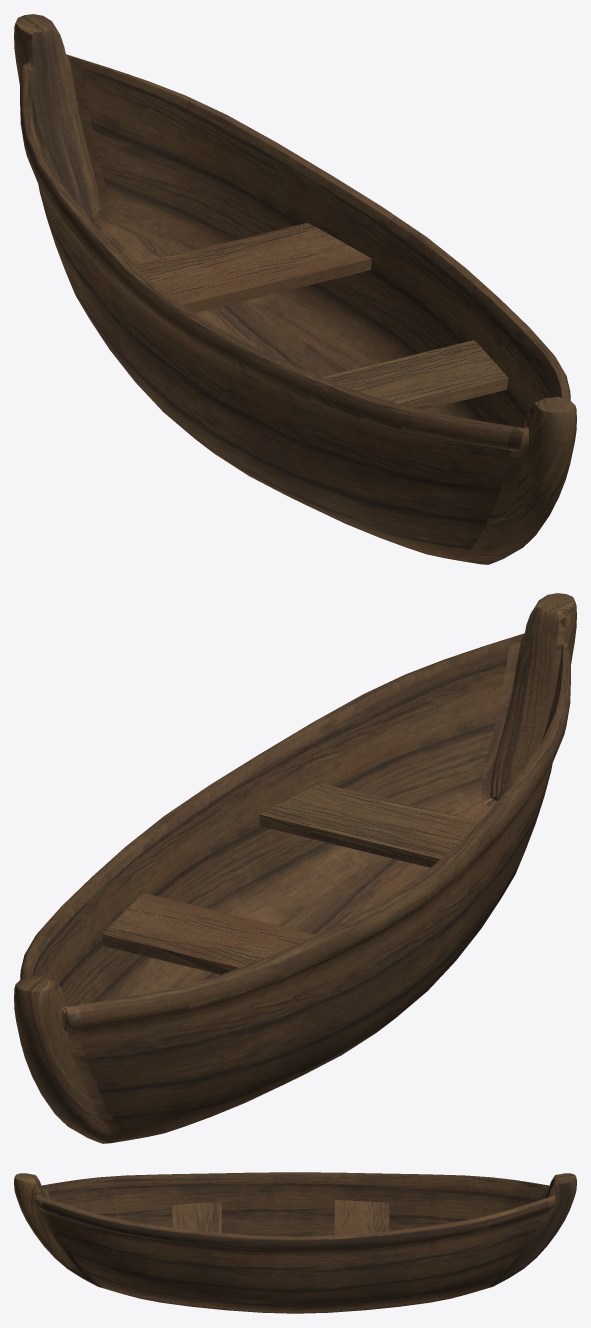
Rendered from Boat.fbx.
3 renders of one model, top to bottom at view 1: azimuth 30°, elevation 25°; view 2: azimuth 150°, elevation 25°; view 3: azimuth 270°, elevation 25°, orthographic. The views are drawn at different scales.
Parts seen in each view (by area): view 1: Boat; view 2: Boat; view 3: Boat.
Boxes of the visible parts, box(x1,y1,x2,y2) form: Boat: box(14, 14, 576, 564); Boat: box(14, 593, 576, 1143); Boat: box(14, 1172, 576, 1313).
Bounding box in the file's own units: 132 × 120 × 462.
